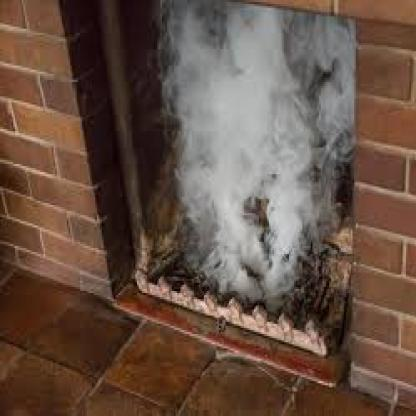smoke: (160, 9, 353, 301)
